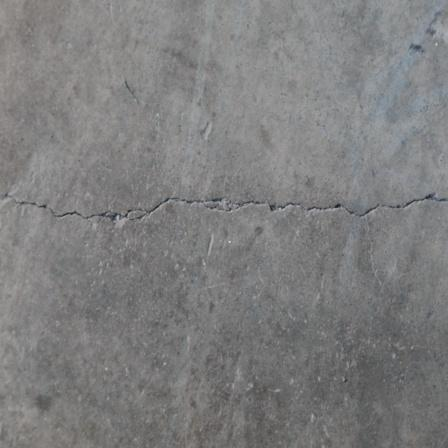crack: (0, 187, 448, 230)
